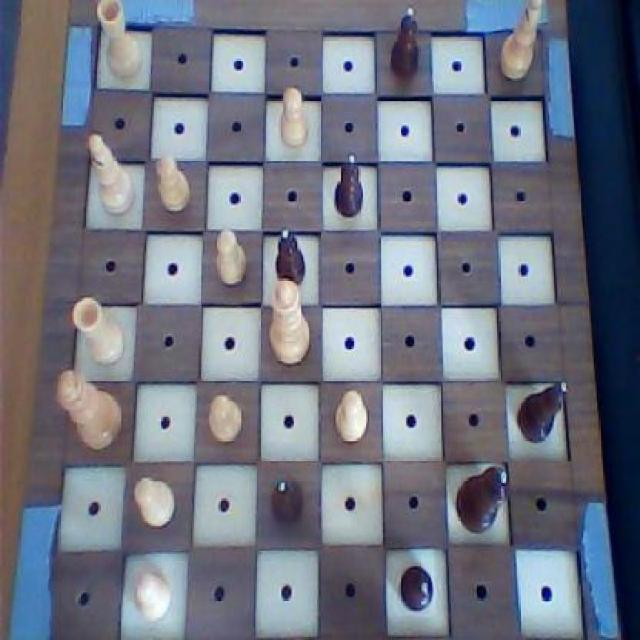bishop: (515, 375, 573, 448)
black-bishop: (452, 458, 510, 538)
black-knight: (388, 3, 425, 84), (330, 150, 368, 222), (266, 475, 308, 534), (274, 226, 308, 288), (398, 562, 434, 616)
black-rook: (83, 130, 139, 218), (494, 0, 546, 86)
white-bishop: (54, 366, 124, 456)
white-knight: (151, 149, 192, 217), (131, 472, 177, 532), (212, 226, 252, 292), (205, 388, 247, 448), (129, 564, 173, 620), (277, 81, 312, 150), (332, 386, 370, 448)
white-pawn: (263, 275, 315, 371)
white-queen: (69, 297, 127, 372), (94, 0, 145, 83)
